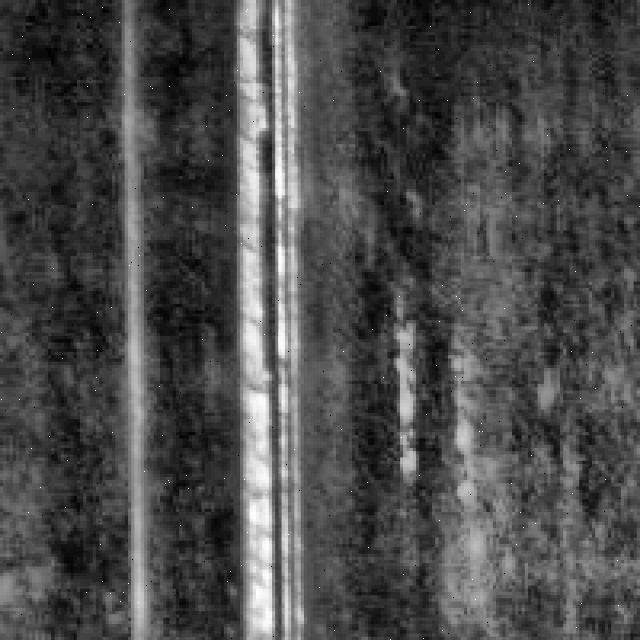Inclusion: (230, 0, 320, 634), (122, 86, 160, 634)
